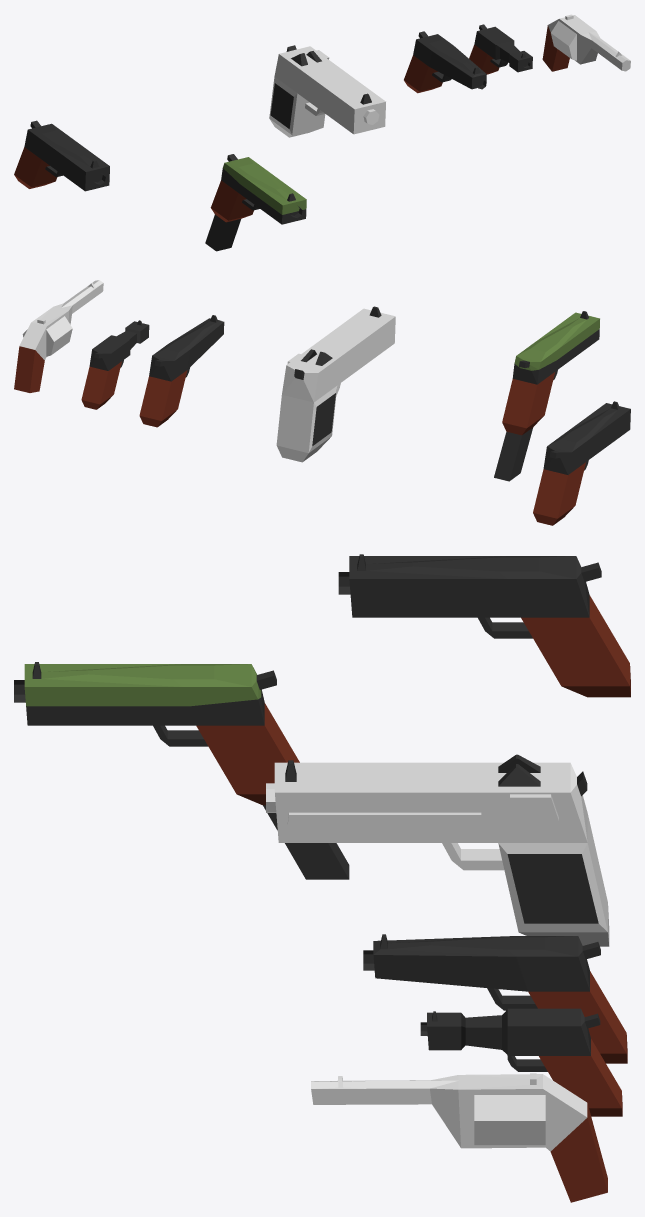
The model's file is Pistols.fbx.
3 views of the same model, one above another, from view 1: azimuth 30°, elevation 25°; view 2: azimuth 150°, elevation 25°; view 3: azimuth 270°, elevation 25° (orthographic). The views are drawn at different scales.
Visible parts, largest first — view 1: Cube.002, Cube.001, Cube, Cube.003, Cube.005, Cube.004, Cylinder; view 2: Cube.002, Cube.001, Cube, Cube.003, Cube.005, Cube.004, Cylinder; view 3: Cube.002, Cube.001, Cube, Cube.003, Cube.005, Cube.004, Cylinder.
Part boxes in pixels (box(x1,y1,x2,y2)): Cube.002: box(269, 45, 385, 137); Cube.001: box(205, 154, 306, 251); Cube: box(14, 120, 109, 191); Cube.003: box(404, 31, 486, 93); Cube.005: box(542, 14, 630, 71); Cube.004: box(469, 24, 532, 74); Cylinder: box(551, 21, 576, 60); Cube.002: box(276, 306, 395, 462); Cube.001: box(494, 311, 599, 481); Cube: box(533, 401, 630, 525); Cube.003: box(139, 315, 224, 427); Cube.005: box(14, 280, 103, 392); Cube.004: box(81, 320, 149, 409); Cylinder: box(22, 316, 72, 356); Cube.002: box(266, 754, 609, 946); Cube.001: box(14, 662, 349, 879); Cube: box(338, 554, 630, 697); Cube.003: box(363, 934, 627, 1063); Cube.005: box(311, 1073, 607, 1202); Cube.004: box(420, 1008, 622, 1116); Cylinder: box(474, 1095, 545, 1145).
Bounding box in the file's own units: 1040 × 226 × 522.
